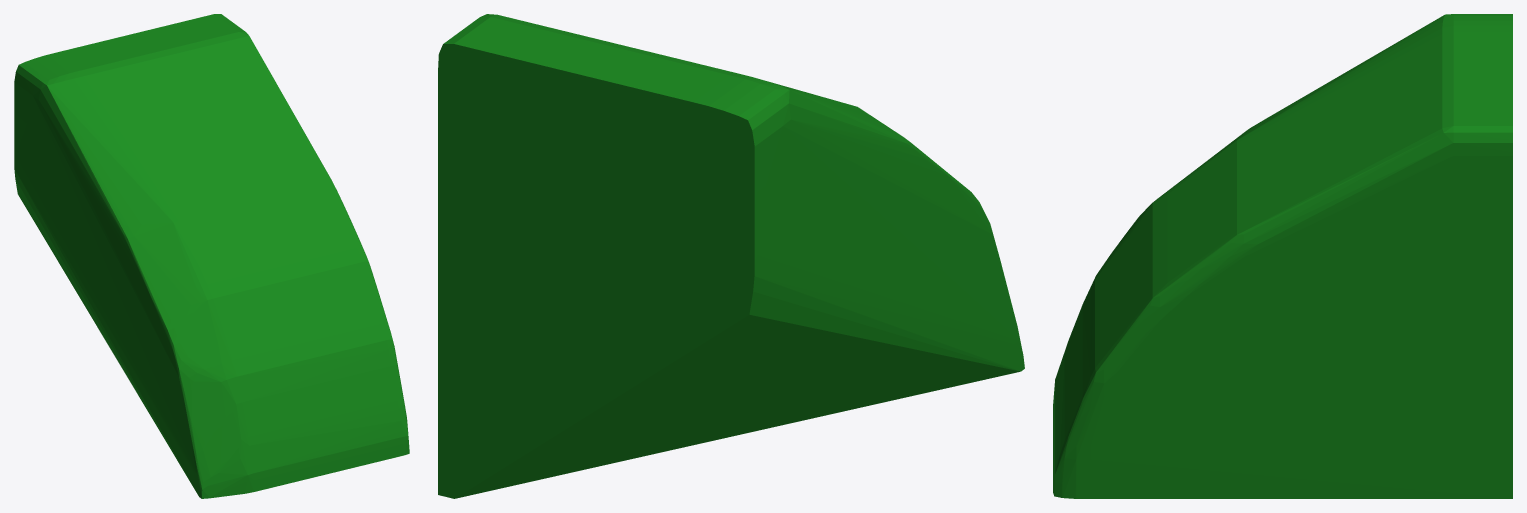
The model's file is right_f_proximal_part_8.obj.
3 renders of one model, left to right at view 1: azimuth 30°, elevation 25°; view 2: azimuth 150°, elevation 25°; view 3: azimuth 270°, elevation 25°, orthographic. The views are drawn at different scales.
Size of the model in its own units: 5.27 by 7.23 by 8.22.
